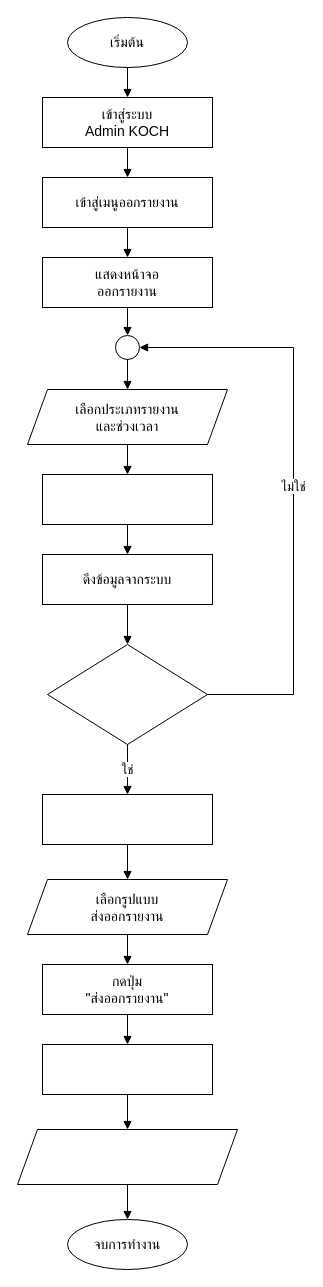
Some shapes in this 323 by 1287 pixel diagram are drawn without their labels. Here are the shapes that lost their labels. From the top down, the box of each, then its label:
(42, 474, 212, 524): กดปุ่ม "ค้นหาข้อมูล"
(46, 644, 208, 744): พบข้อมูล หรือไม่?
(42, 794, 212, 844): แสดงตัวอย่าง รายงาน (Preview)
(42, 1044, 212, 1094): ส่งออกรายงาน (PDF/Excel)
(16, 1128, 238, 1184): แสดงข้อความ "ส่งออกรายงานสำเร็จ"
